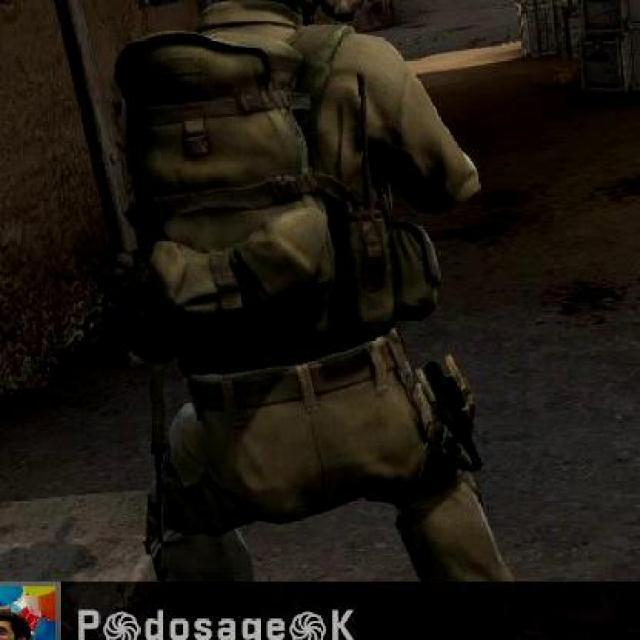CT: (72, 0, 576, 632)
